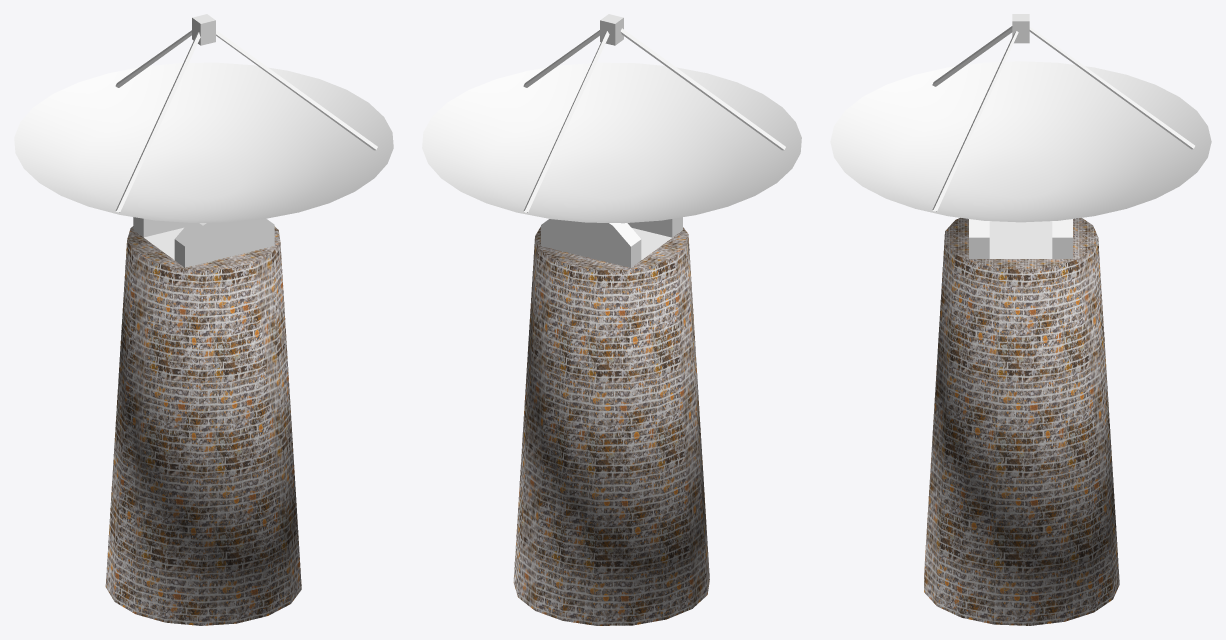
Rendered from RadioDish.glb.
3 views of the same model, side by side, from view 1: azimuth 30°, elevation 25°; view 2: azimuth 150°, elevation 25°; view 3: azimuth 270°, elevation 25° (orthographic).
Parts seen in each view (by area): view 1: Cone, Circle, Plane, Circle.001, Cube; view 2: Cone, Circle, Plane, Circle.001, Cube; view 3: Cone, Circle, Plane, Circle.001.
Boxes of the visible parts, x1,y1,x2,y2 form: Cone: [105, 226, 301, 625]; Circle: [14, 62, 393, 222]; Plane: [133, 217, 274, 267]; Circle.001: [115, 30, 377, 212]; Cube: [192, 14, 215, 45]; Cone: [513, 226, 709, 625]; Circle: [422, 62, 801, 223]; Plane: [541, 217, 682, 267]; Circle.001: [523, 28, 785, 212]; Cube: [600, 14, 623, 45]; Cone: [924, 218, 1119, 625]; Circle: [830, 61, 1211, 222]; Plane: [969, 219, 1072, 258]; Circle.001: [932, 26, 1194, 211].
Size of the model in its own units: 30.02 by 49.23 by 30.02.
2 materials, 1 textured.
